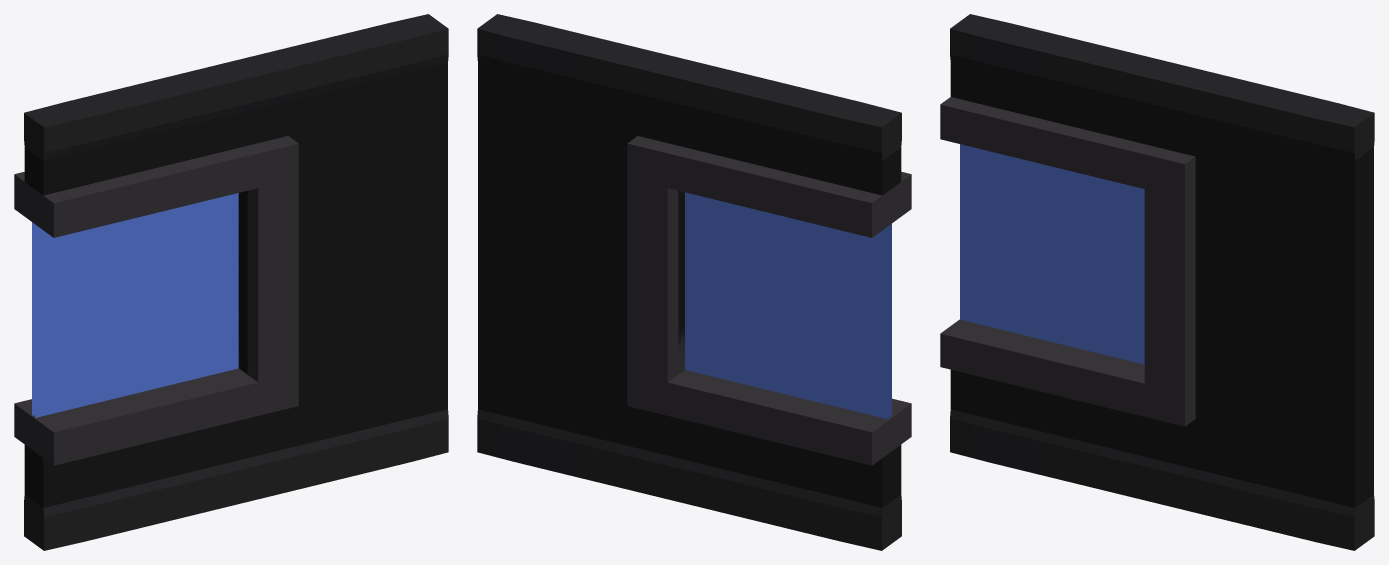
The model's file is Wall_Window_Corner.fbx.
The picture shows the model from 3 angles, left to right: view 1: azimuth 30°, elevation 25°; view 2: azimuth 150°, elevation 25°; view 3: azimuth 330°, elevation 25°; orthographic projection.
Visible parts, largest first — view 1: polySurface11; view 2: polySurface11; view 3: polySurface11.
Boxes of the visible parts, x1=… form: polySurface11: x1=14, y1=14, x2=448, y2=550; polySurface11: x1=477, y1=14, x2=911, y2=550; polySurface11: x1=940, y1=14, x2=1374, y2=550.
Size of the model in its own units: 500 by 500 by 84.86.
